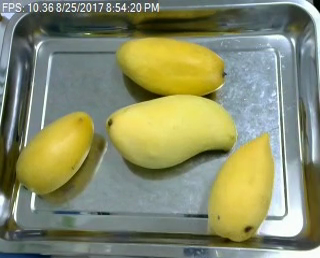Mango: (105, 92, 239, 169), (206, 133, 279, 243), (15, 108, 97, 195), (115, 34, 227, 97)
